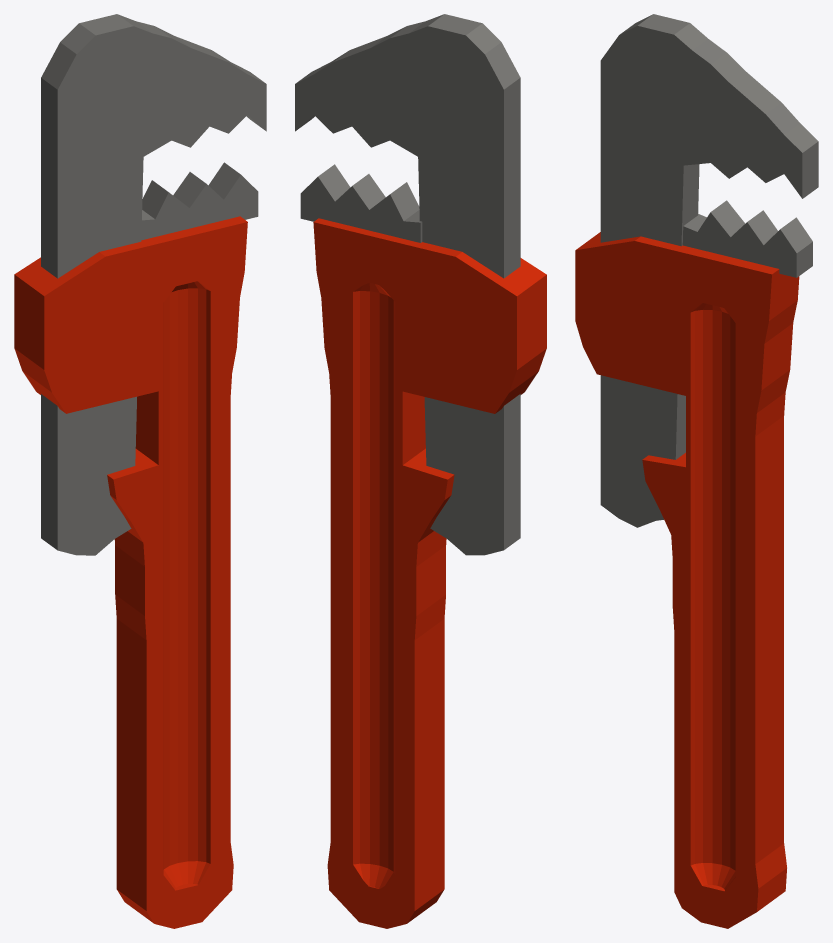
File: Wrench.fbx
3 renders of one model, left to right at view 1: azimuth 30°, elevation 25°; view 2: azimuth 150°, elevation 25°; view 3: azimuth 330°, elevation 25°, orthographic. The views are drawn at different scales.
Parts seen in each view (by area): view 1: Cube; view 2: Cube; view 3: Cube.
Part boxes in pixels (box(x1,y1,x2,y2)): Cube: box(14, 14, 266, 928); Cube: box(295, 14, 546, 928); Cube: box(575, 14, 818, 928).
Bounding box in the file's own units: 957 × 3622 × 216.
